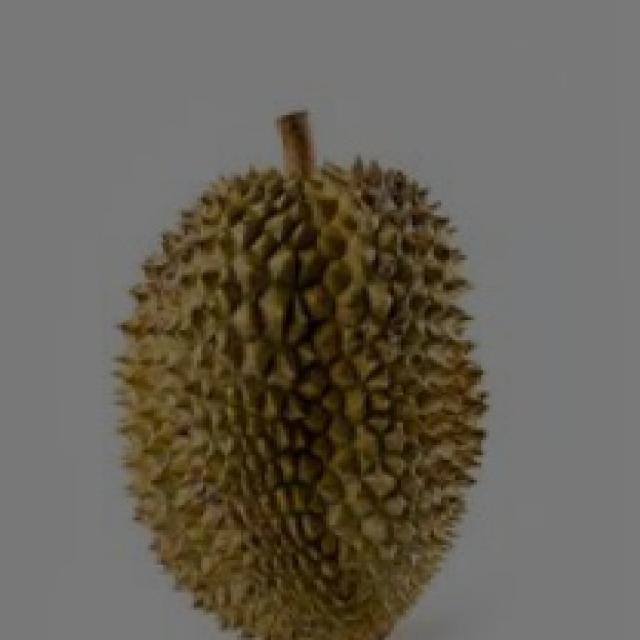fruit: (65, 260, 406, 640)
